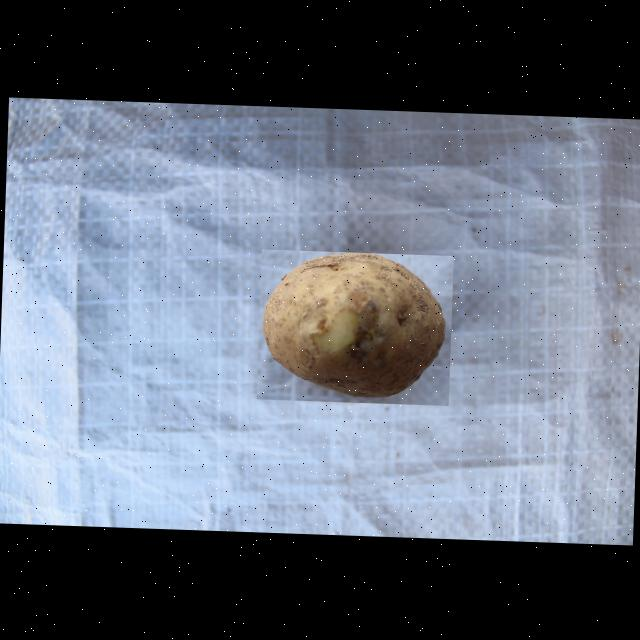Diseased-fungal potato: (255, 248, 452, 404)
